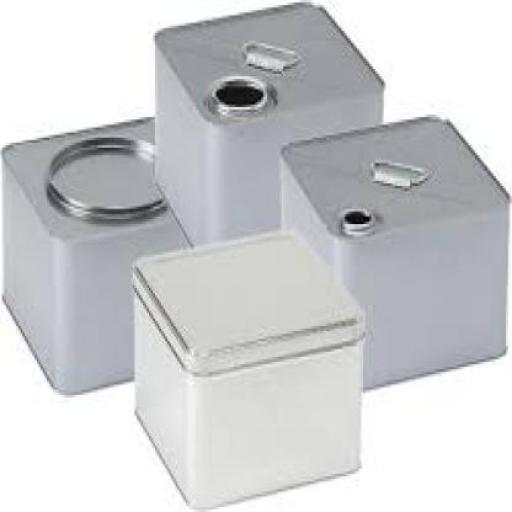metal: (131, 224, 365, 510), (279, 112, 506, 388), (153, 1, 384, 244), (2, 115, 181, 390)
